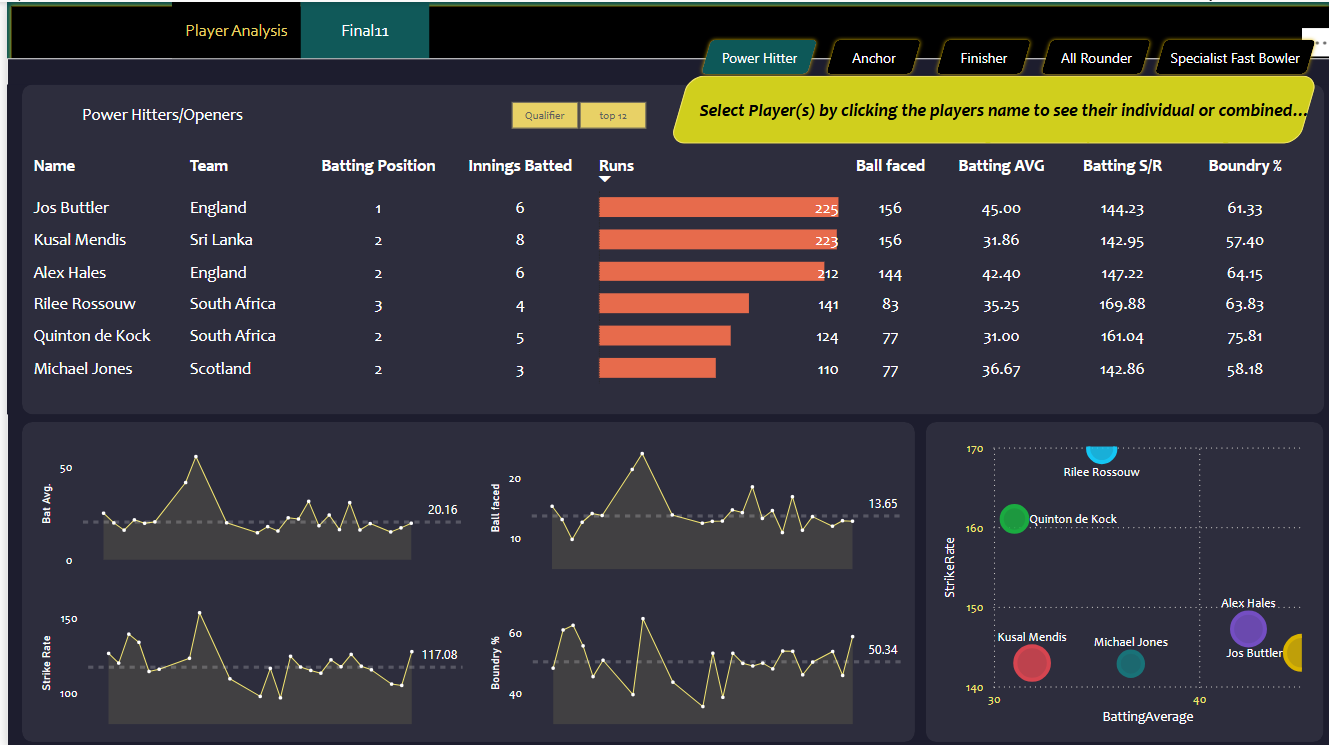

The page's visual inventory and layout, read from the dashboard file:
{"tool":"powerbi","page":{"name":"Power Hitter/Openers","canvas":[1280,720],"ordinal":0},"visuals":[{"type":"shape","box":[0,0,1280,76],"z":0},{"type":"shape","box":[0,54.3,1280,666.4],"z":1000},{"type":"shape","box":[0,79.3,1280,318.6],"z":2000},{"type":"shape","box":[13.9,79.3,1257.7,318.6],"z":3000},{"type":"shape","box":[887.1,405.1,384,308.9],"z":4000},{"type":"shape","box":[640,71,626.1,65.4],"z":5000},{"type":"card","fields":{"Values":["Key_Measure.BattingAverage"]},"box":[902.7,75.4,82.1,66.8],"z":6000},{"type":"card","fields":{"Values":["Key_Measure.Boundry %"]},"box":[992.5,75.4,72.3,66.8],"z":7000},{"type":"card","fields":{"Values":["Key_Measure.StrikeRate"]},"box":[1069.6,75.4,79.3,66.8],"z":8000},{"type":"card","fields":{"Values":["Key_Measure.Average ball face"]},"box":[1148.9,75.4,103,66.8],"z":9000},{"type":"slicer","fields":{"Values":["match result.state"]},"box":[460.5,89,180,40],"z":10000},{"type":"shape","box":[72.3,89,173.9,39],"z":11000},{"type":"shape","box":[666.4,86.3,194.8,44.5],"z":12000},{"type":"shape","box":[13.9,404.9,862,308.9],"z":13000},{"type":"actionButton","box":[159.3,0,124.3,54.3],"z":18000},{"type":"actionButton","box":[283.5,0,124.3,54.3],"z":19000},{"type":"actionButton","box":[666,32.6,120.6,41],"z":20000},{"type":"actionButton","box":[892.8,32.6,100.1,41],"z":21000},{"type":"actionButton","box":[994.1,32.6,114.6,41],"z":22000},{"type":"actionButton","box":[1103.9,32.6,162.9,41],"z":23000},{"type":"actionButton","box":[786.6,32.6,100.1,41],"z":24000},{"type":"shape","box":[649.1,82.3,610.6,43.9],"z":25000},{"type":"tableEx","fields":{"Values":["batting.batsmanName","batting.teamInnings","Key_Measure.Batting Position","Key_Measure.Total Innings Batted","Key_Measure.Total Runs","Key_Measure.TotalBallFace","Key_Measure.BattingAverage","Key_Measure.StrikeRate","Key_Measure.Boundry %"]},"box":[13.9,136.3,1252.2,261.6],"z":27001},{"type":"scatterChart","fields":{"X":["Key_Measure.BattingAverage"],"Y":["Key_Measure.StrikeRate"],"Category":["player info.name"],"Series":["player info.name"],"Size":["Key_Measure.Total Runs"]},"box":[898.2,416.3,363.1,286.6],"z":27002},{"type":"areaChart","fields":{"Y":["Key_Measure.BattingAverage"],"Category":["match result.matchDate.Variation.Date Hierarchy.Day"]},"box":[27.8,416,417.4,136.3],"z":27003},{"type":"areaChart","fields":{"Y":["Key_Measure.Average ball face"],"Category":["match result.matchDate.Variation.Date Hierarchy.Day"]},"box":[460.5,416,409,136.3],"z":27004},{"type":"areaChart","fields":{"Y":["Key_Measure.Boundry %"],"Category":["match result.matchDate.Variation.Date Hierarchy.Day"]},"box":[460.5,566.3,409,136.3],"z":27005},{"type":"areaChart","fields":{"Y":["Key_Measure.StrikeRate"],"Category":["match result.matchDate.Variation.Date Hierarchy.Day"]},"box":[27.8,566.3,417.4,136.3],"z":27006}]}

Visuals, with their boxes in screenshot pixels (x1, y1, x2, y2), scaled from the page's 1280x720 canvas onto the 1329x745 screenshot:
shape: left=0, top=0, right=1328, bottom=79
shape: left=0, top=56, right=1328, bottom=744
shape: left=0, top=82, right=1328, bottom=412
shape: left=14, top=82, right=1320, bottom=412
shape: left=921, top=419, right=1320, bottom=739
shape: left=664, top=73, right=1315, bottom=141
card - Key_Measure.BattingAverage: left=937, top=78, right=1022, bottom=147
card - Key_Measure.Boundry %: left=1030, top=78, right=1106, bottom=147
card - Key_Measure.StrikeRate: left=1111, top=78, right=1193, bottom=147
card - Key_Measure.Average ball face: left=1193, top=78, right=1300, bottom=147
slicer - match result.state: left=478, top=92, right=665, bottom=133
shape: left=75, top=92, right=256, bottom=132
shape: left=692, top=89, right=894, bottom=135
shape: left=14, top=419, right=909, bottom=739
actionButton: left=165, top=0, right=294, bottom=56
actionButton: left=294, top=0, right=423, bottom=56
actionButton: left=691, top=34, right=817, bottom=76
actionButton: left=927, top=34, right=1031, bottom=76
actionButton: left=1032, top=34, right=1151, bottom=76
actionButton: left=1146, top=34, right=1315, bottom=76
actionButton: left=817, top=34, right=921, bottom=76
shape: left=674, top=85, right=1308, bottom=131
tableEx - batting.batsmanName x batting.teamInnings: left=14, top=141, right=1315, bottom=412
scatterChart - Key_Measure.BattingAverage x Key_Measure.StrikeRate: left=933, top=431, right=1310, bottom=727
areaChart - Key_Measure.BattingAverage x match result.matchDate.Variation.Date Hierarchy.Day: left=29, top=430, right=462, bottom=571
areaChart - Key_Measure.Average ball face x match result.matchDate.Variation.Date Hierarchy.Day: left=478, top=430, right=903, bottom=571
areaChart - Key_Measure.Boundry % x match result.matchDate.Variation.Date Hierarchy.Day: left=478, top=586, right=903, bottom=727
areaChart - Key_Measure.StrikeRate x match result.matchDate.Variation.Date Hierarchy.Day: left=29, top=586, right=462, bottom=727
